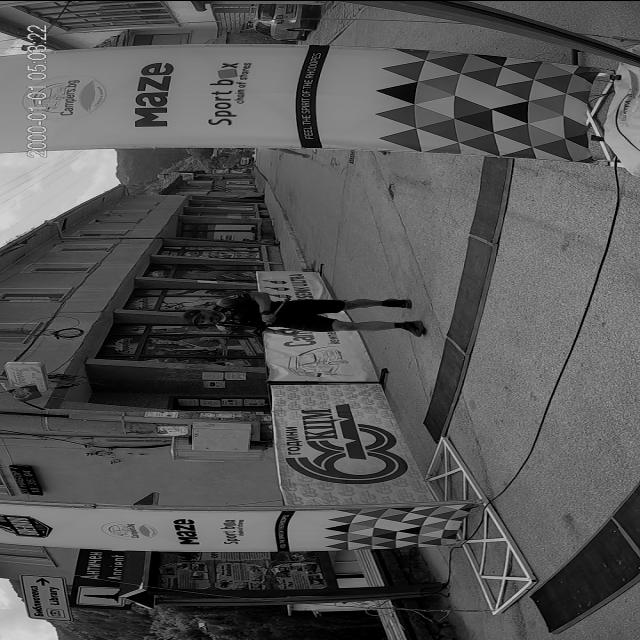runner: (169, 283, 443, 345)
